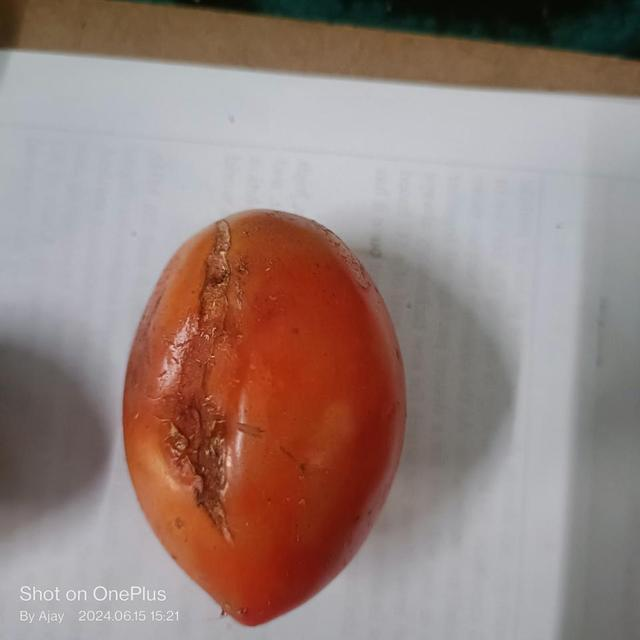Cracking Fruit: (75, 63, 176, 335)
